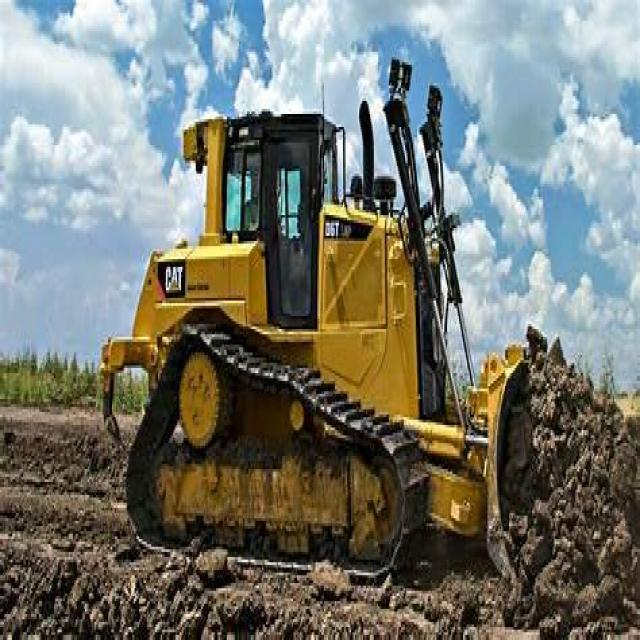Bulldozer: (102, 41, 566, 565)
